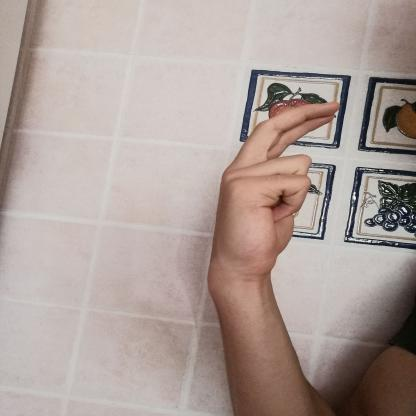ZAY: (192, 94, 350, 300)
